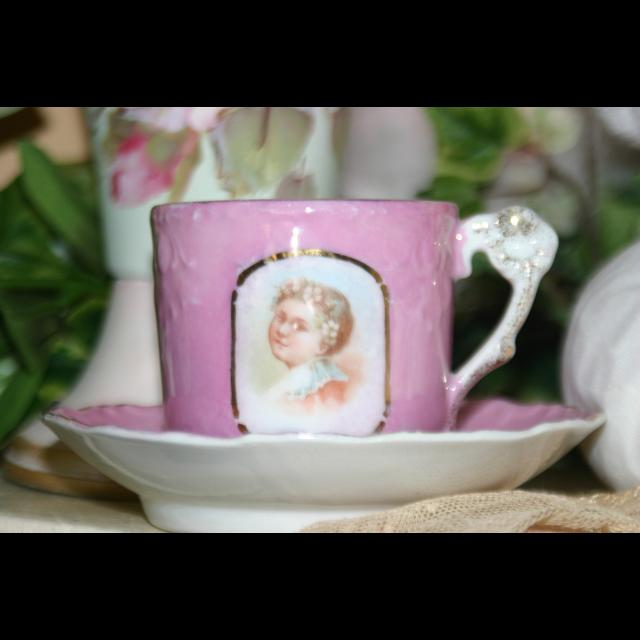Flower: (110, 122, 202, 212), (121, 107, 242, 137)
